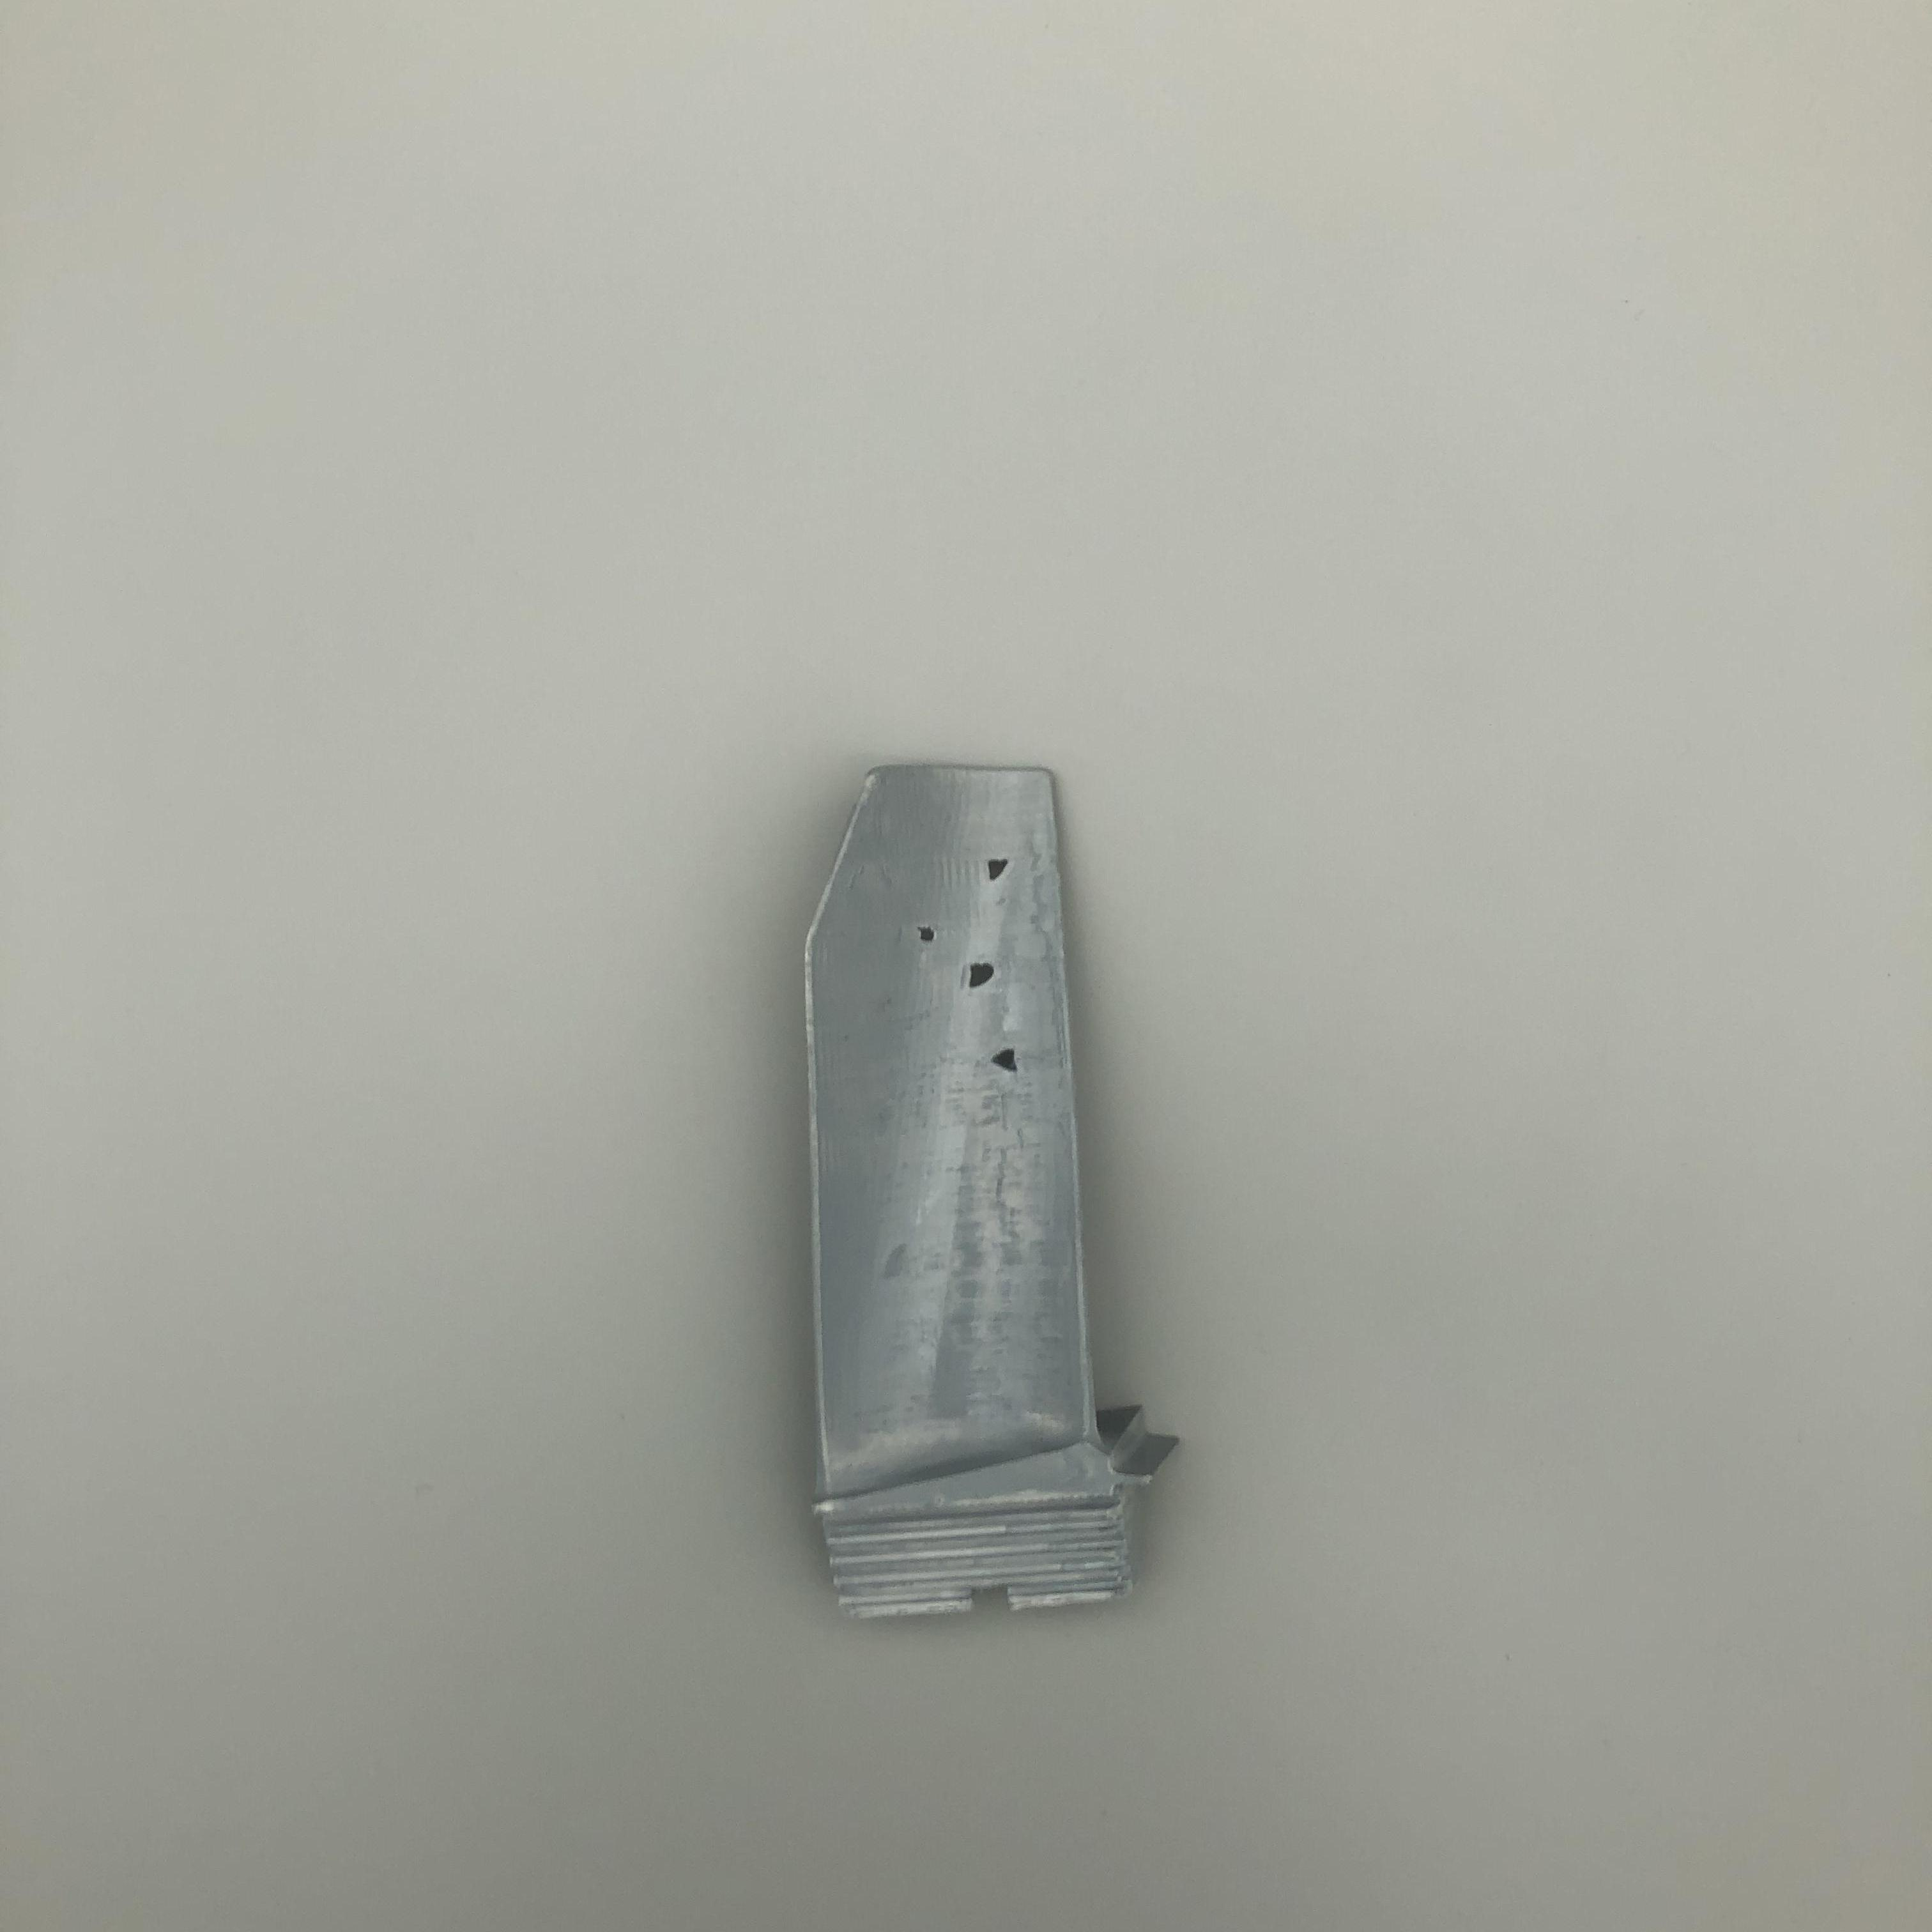breakdown: (913, 849, 1042, 1086)
